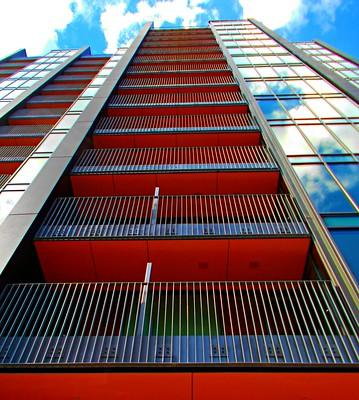building: (3, 7, 359, 400)
